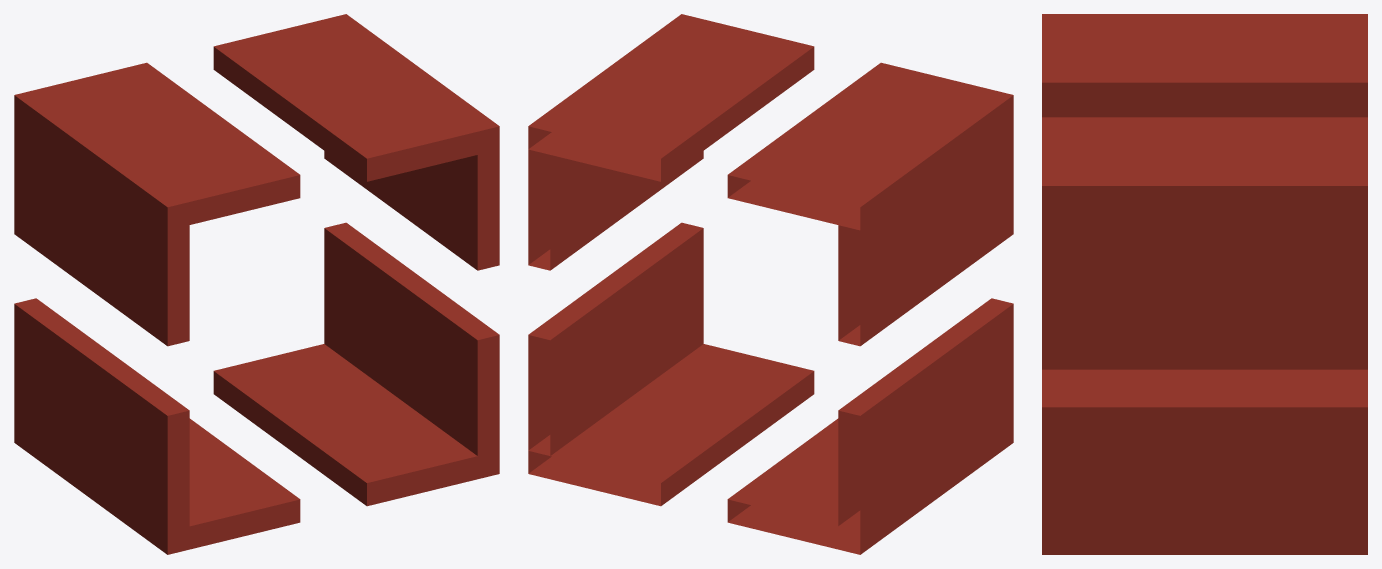
File: construction_1.glb
3 views of the same model, side by side, from view 1: azimuth 30°, elevation 25°; view 2: azimuth 150°, elevation 25°; view 3: azimuth 270°, elevation 25° (orthographic). The views are drawn at different scales.
Parts seen in each view (by area): view 1: construction_1; view 2: construction_1; view 3: construction_1.
Boxes of the visible parts, <box> form: construction_1: <box>14,14,499,554</box>; construction_1: <box>528,14,1013,554</box>; construction_1: <box>1042,14,1367,554</box>.
Size of the model in its own units: 9 by 9 by 7.2.
